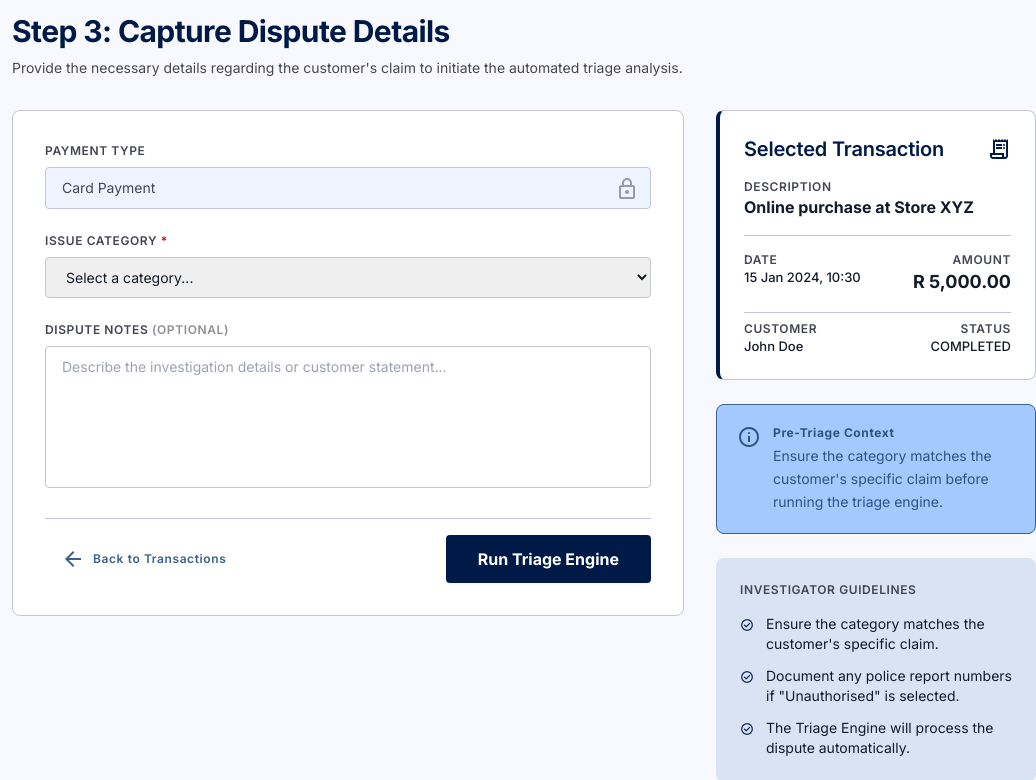
Test: DisputeCaptureForm › shows loading spinner while submitting
This screenshot has width=1036, height=780.
Select "Duplicate Debit" in the dropdown with test id "issue-category-select": {"x": 348, "y": 278} [45, 257, 651, 298]
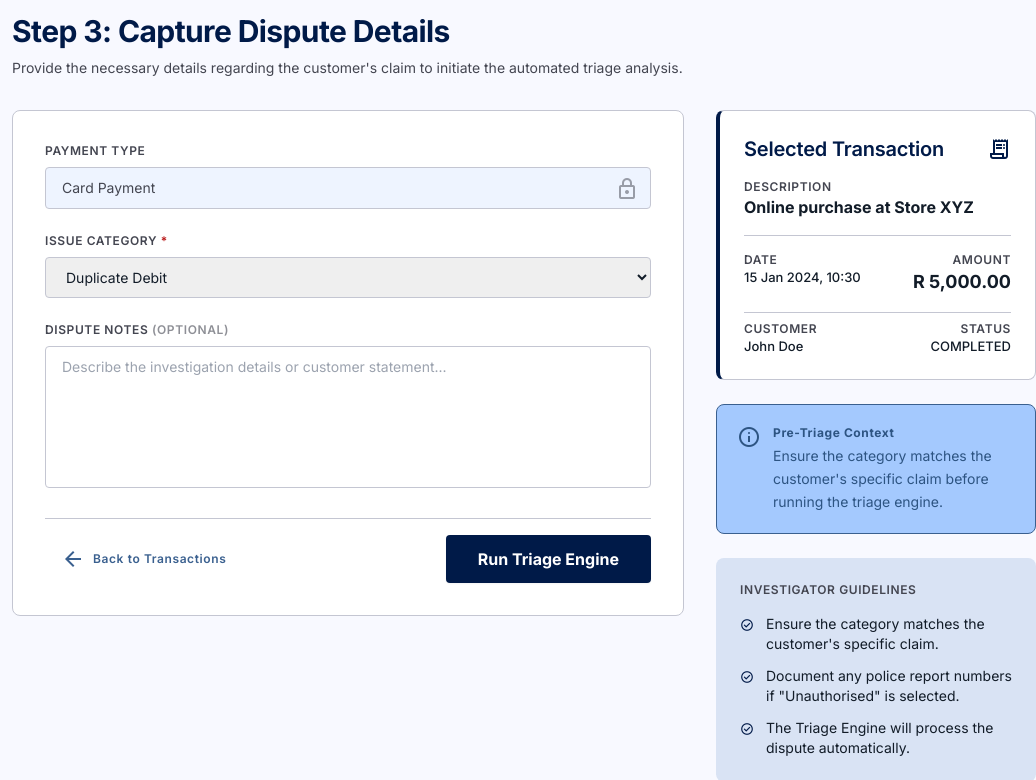
Click the button with test id "submit-dispute-button": {"x": 548, "y": 559} [446, 535, 651, 583]
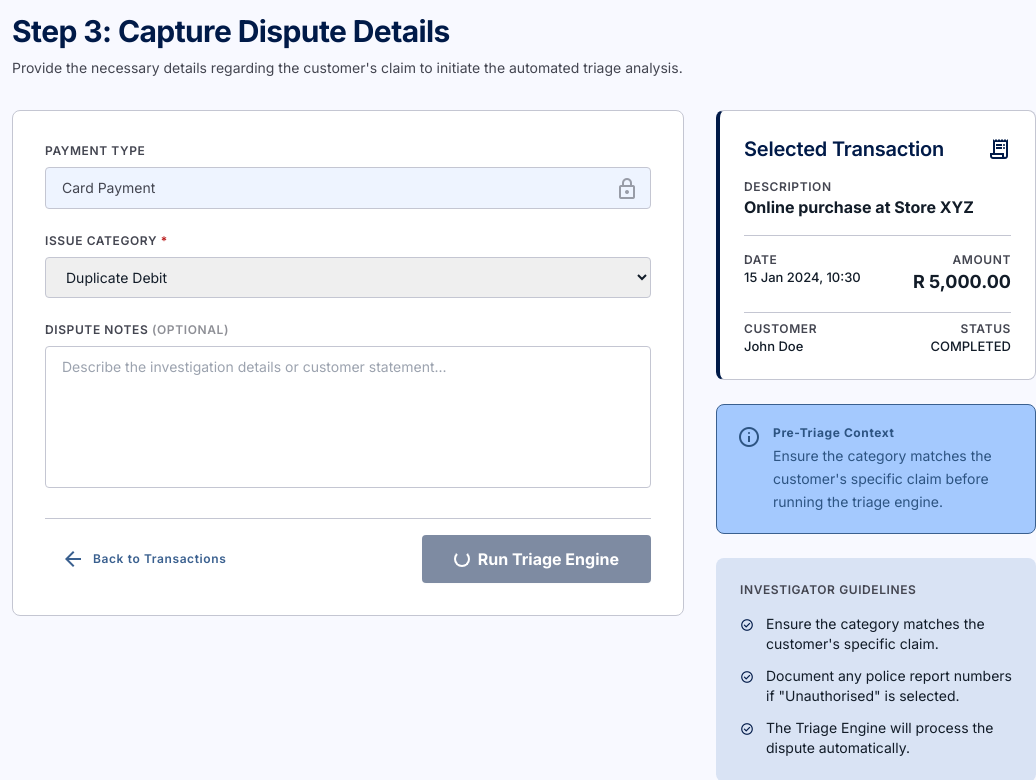
Result: the element with test id "loading-indicator" is shown at [454, 551, 470, 567]
Result: the button with test id "submit-dispute-button" is disabled at [422, 535, 651, 583]
